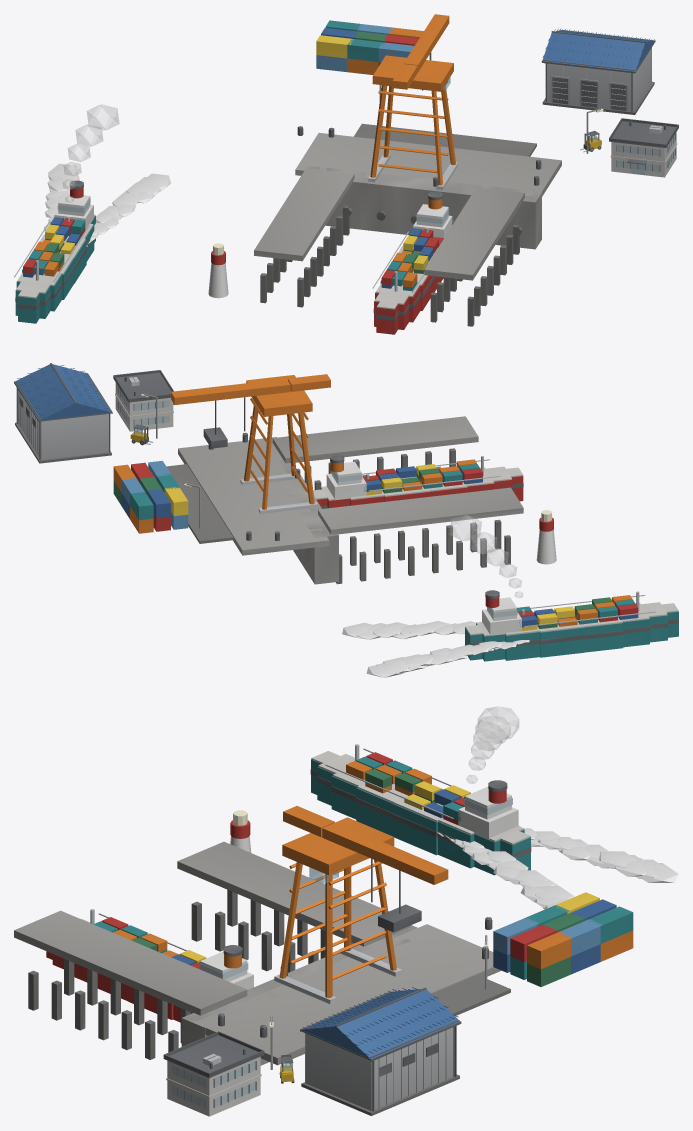
The model's file is Port_P2.fbx.
The picture shows the model from 3 angles, top to bottom: view 1: azimuth 30°, elevation 25°; view 2: azimuth 150°, elevation 25°; view 3: azimuth 270°, elevation 25°; orthographic projection. The views are drawn at different scales.
Parts seen in each view (by area): view 1: Port.Apron, Port.Shed, Port.Pier0, Port.Pier1, Port.QuayWall, Port.ShipOut, Port.Crane0, Port.Ship0, Port.Containers, Port.Control, Port.Wake, Port.ShipSmoke (+1 smaller); view 2: Port.Apron, Port.ShipOut, Port.Pier1, Port.Shed, Port.Crane0, Port.Ship0, Port.Pier0, Port.Containers, Port.Wake, Port.Control, Port.QuayWall, Port.ShipSmoke (+1 smaller); view 3: Port.Shed, Port.Apron, Port.ShipOut, Port.Pier0, Port.Crane0, Port.Pier1, Port.Containers, Port.Control, Port.Wake, Port.Ship0, Port.QuayWall, Port.ShipSmoke (+1 smaller).
Part boxes in pixels (x1,y1,x2,y2): Port.Apron: [295, 123, 561, 196]; Port.Shed: [541, 28, 655, 114]; Port.Pier0: [424, 187, 524, 326]; Port.Pier1: [254, 168, 354, 307]; Port.QuayWall: [306, 165, 541, 249]; Port.ShipOut: [14, 180, 95, 323]; Port.Crane0: [368, 14, 458, 189]; Port.Ship0: [372, 191, 452, 334]; Port.Containers: [316, 20, 423, 74]; Port.Control: [609, 118, 678, 177]; Port.Wake: [43, 163, 170, 246]; Port.ShipSmoke: [63, 104, 119, 202]; Port.Apron: [166, 438, 329, 555]; Port.ShipOut: [465, 590, 678, 661]; Port.Pier1: [318, 487, 523, 584]; Port.Shed: [14, 363, 112, 463]; Port.Crane0: [171, 374, 330, 513]; Port.Ship0: [313, 454, 523, 508]; Port.Pier0: [272, 416, 478, 490]; Port.Containers: [113, 460, 188, 533]; Port.Wake: [342, 621, 529, 677]; Port.Control: [113, 370, 174, 431]; Port.QuayWall: [257, 437, 338, 584]; Port.ShipSmoke: [449, 515, 522, 597]; Port.Shed: [300, 987, 461, 1115]; Port.Apron: [194, 924, 510, 1065]; Port.ShipOut: [310, 744, 531, 875]; Port.Pier0: [14, 910, 247, 1059]; Port.Crane0: [274, 806, 448, 1004]; Port.Pier1: [177, 841, 410, 972]; Port.Containers: [493, 892, 633, 986]; Port.Control: [163, 1031, 264, 1116]; Port.Wake: [437, 825, 678, 909]; Port.Ship0: [46, 909, 253, 1022]; Port.QuayWall: [181, 925, 417, 1065]; Port.ShipSmoke: [466, 706, 518, 783].
Bounding box in the file's own units: 15002 × 3630 × 10076.
